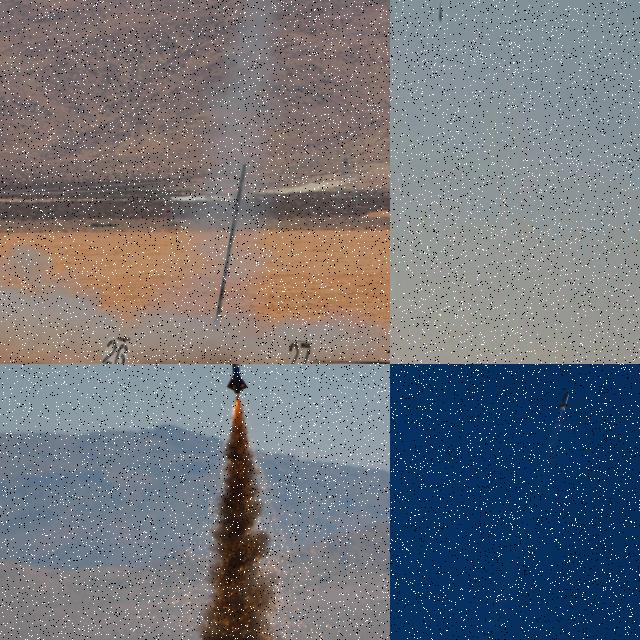Rocket: (225, 364, 248, 394), (554, 391, 570, 412), (439, 4, 442, 20)
